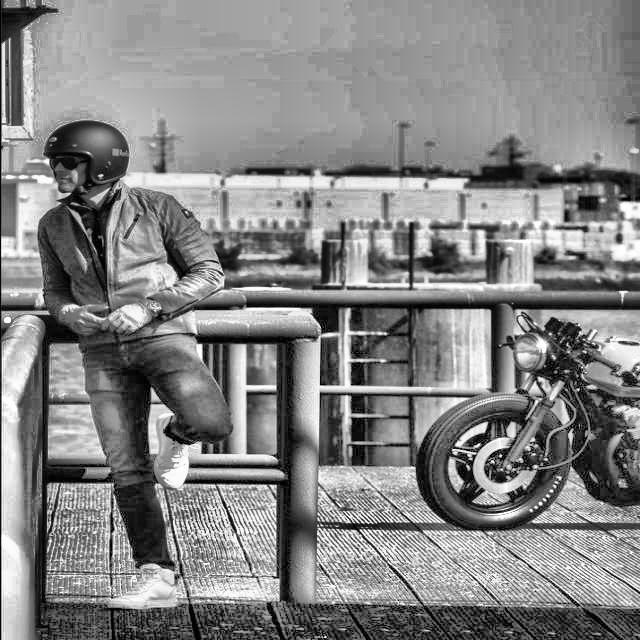Helmet: (39, 118, 134, 198)
